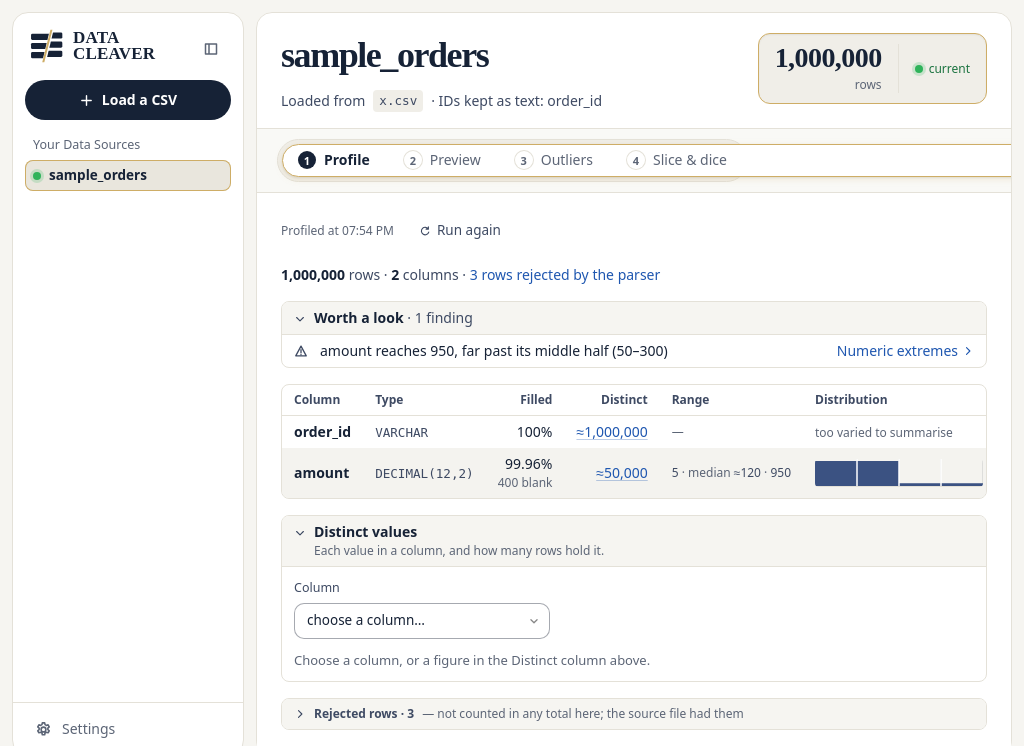
Test: The EDA path › keeps Slice, Pivot and SQL inside Slice & dice
Click the tab "4 Slice & dice": (677, 160) [611,144,743,177]
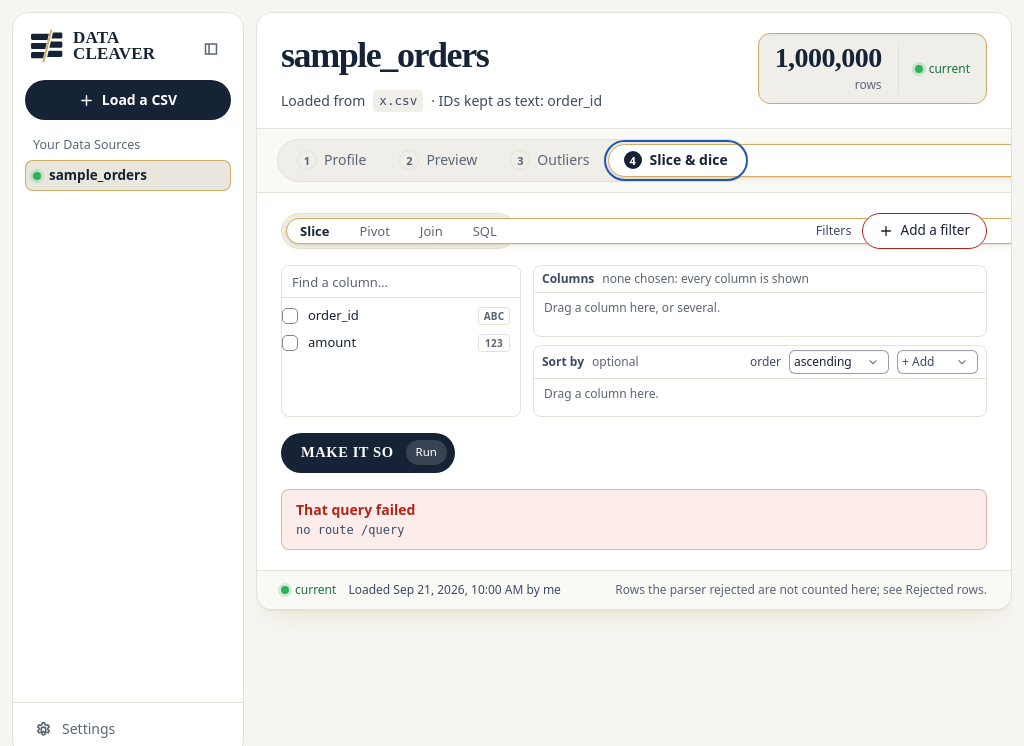
Result: the tabs read "Slice", "Pivot", "Join", "SQL", in this order at [286,218,344,244]; [346,218,404,244]; [406,218,457,244]; [459,218,511,244]
